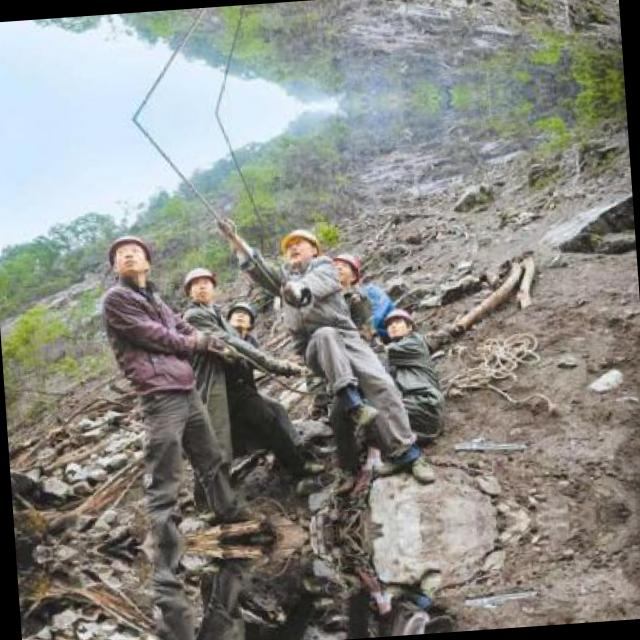helmet: (101, 222, 154, 288), (275, 220, 329, 268), (178, 260, 218, 304), (219, 296, 260, 333), (327, 244, 363, 284), (378, 305, 419, 339)
